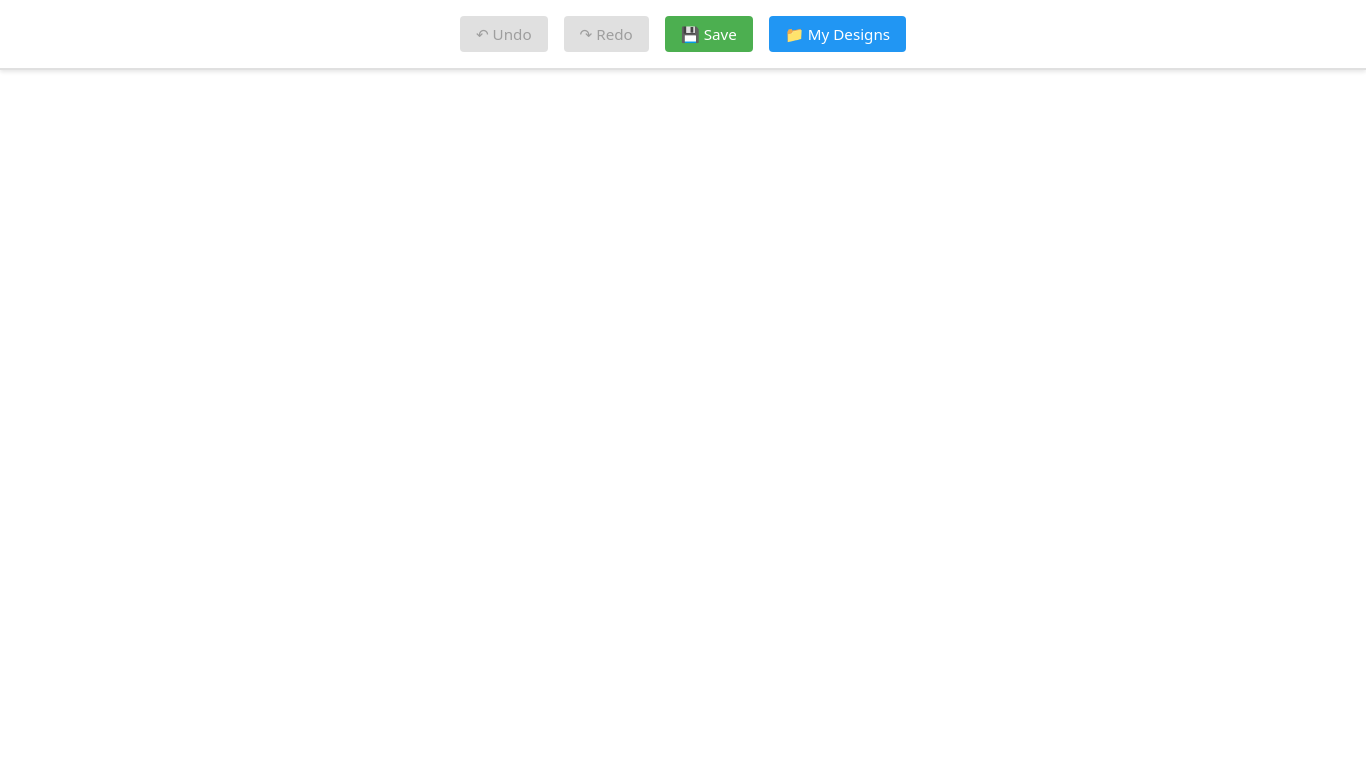
AppHeader › Save button › opens save dialog when clicked
Click the button "💾 Save" at (709, 34), box [665,16,753,52]
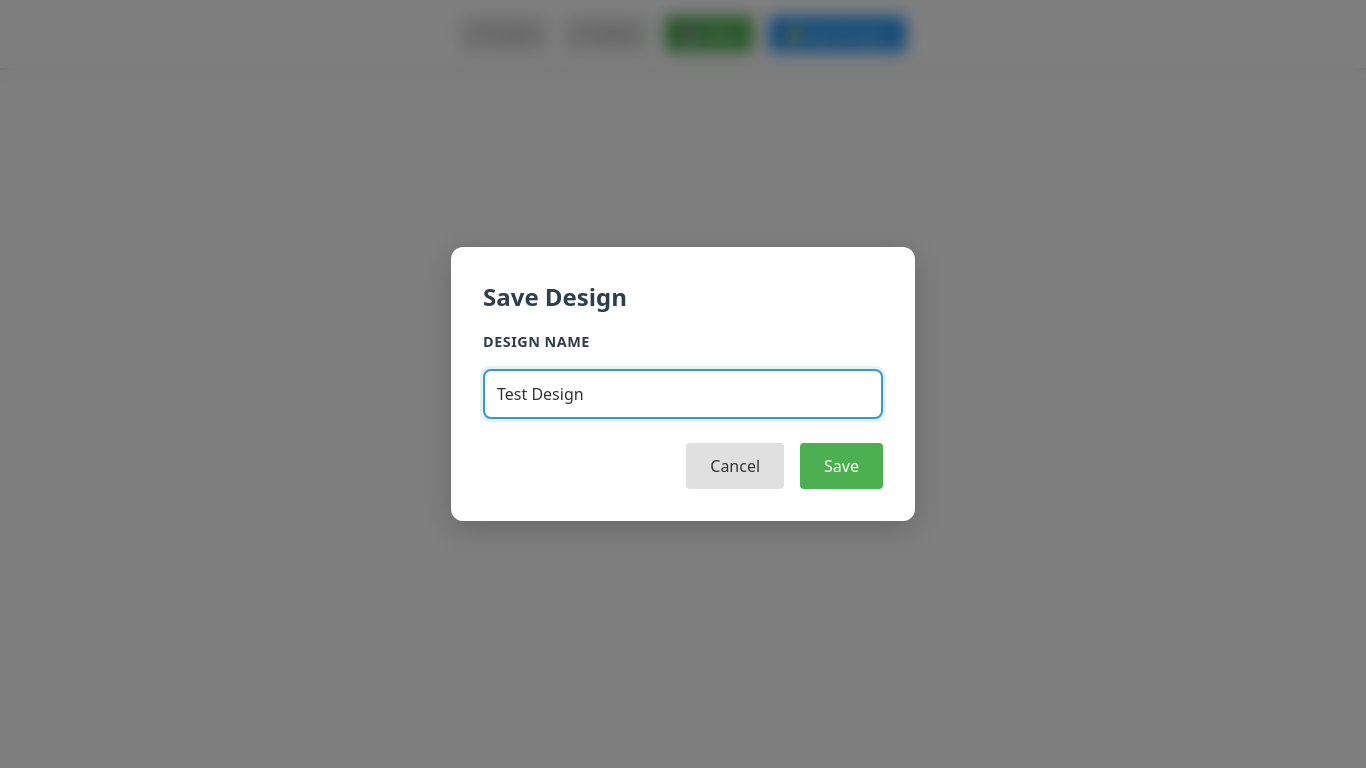
Expected: the heading "Save Design" is shown, [483,280,627,313]
